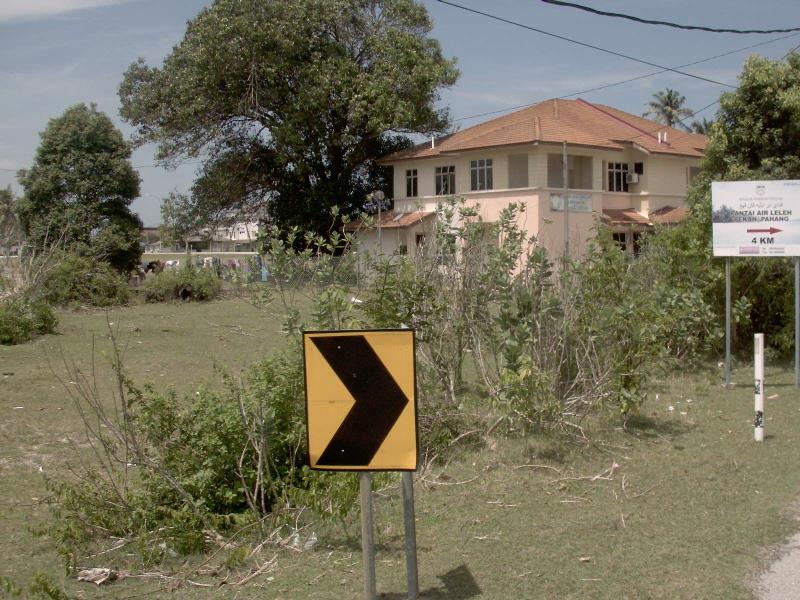ads_sign: (696, 169, 800, 266)
traffic_sign: (298, 319, 430, 490)
